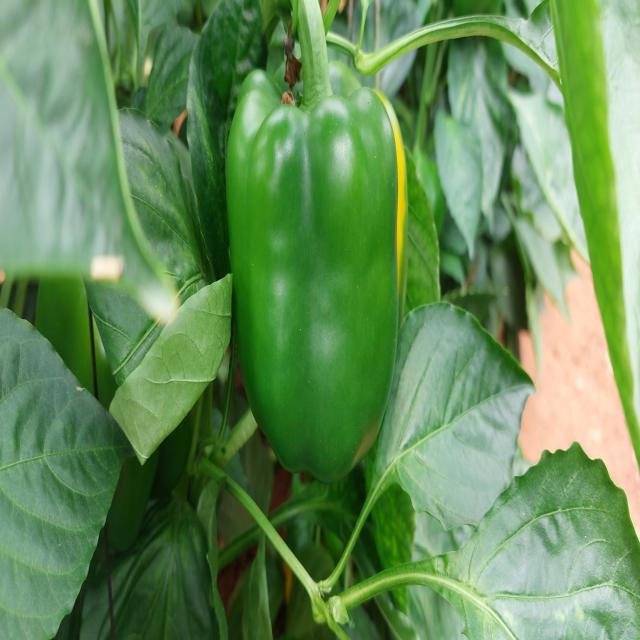Green--Not-ready-to-harvest: (223, 55, 403, 481)
